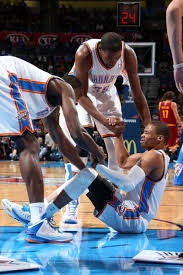falling: (5, 114, 174, 240)
